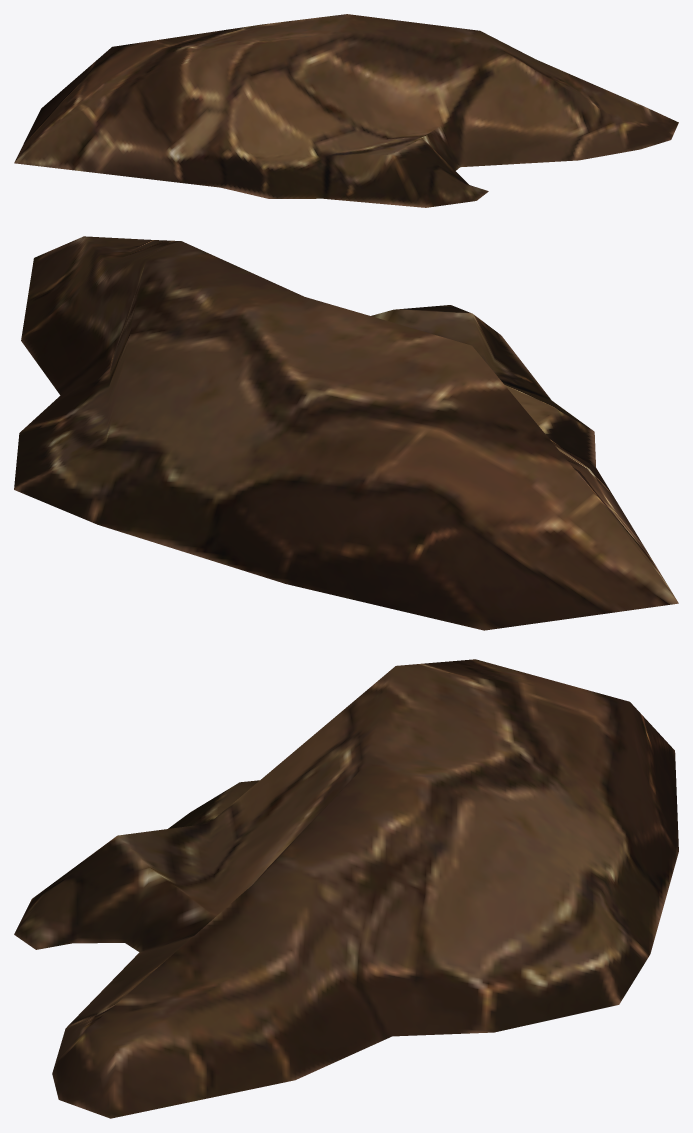
The model's file is A_shitou006.fbx.
3 renders of one model, top to bottom at view 1: azimuth 30°, elevation 25°; view 2: azimuth 150°, elevation 25°; view 3: azimuth 270°, elevation 25°, orthographic. The views are drawn at different scales.
Visible parts, largest first — view 1: A_shitou006; view 2: A_shitou006; view 3: A_shitou006.
Part boxes in pixels (x1,y1,x2,y2): A_shitou006: (14, 14, 678, 207); A_shitou006: (14, 236, 678, 630); A_shitou006: (14, 659, 678, 1118).
Size of the model in its own units: 218 by 37.78 by 143.
